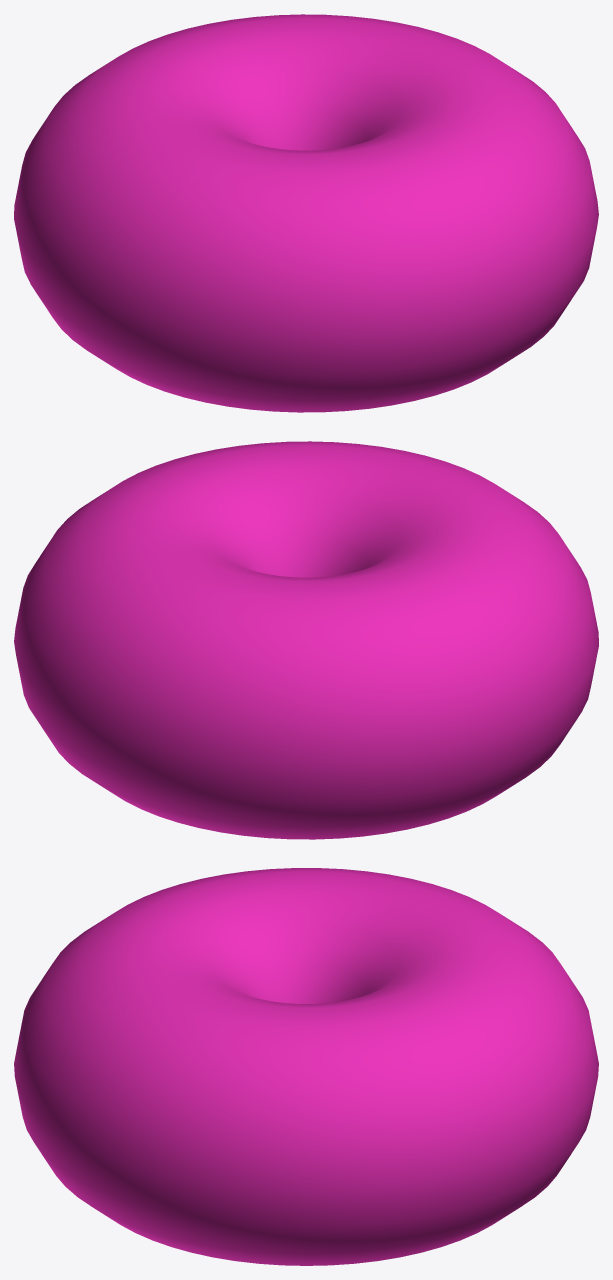
File: metal.glb
The picture shows the model from 3 angles, top to bottom: view 1: azimuth 30°, elevation 25°; view 2: azimuth 150°, elevation 25°; view 3: azimuth 270°, elevation 25°; orthographic projection.
Visible parts, largest first — view 1: Torus; view 2: Torus; view 3: Torus.
Boxes of the visible parts, x1=… form: Torus: x1=14, y1=14, x2=598, y2=412; Torus: x1=14, y1=441, x2=598, y2=839; Torus: x1=14, y1=868, x2=598, y2=1265.
Size of the model in its own units: 6.1 by 2.7 by 6.1.
